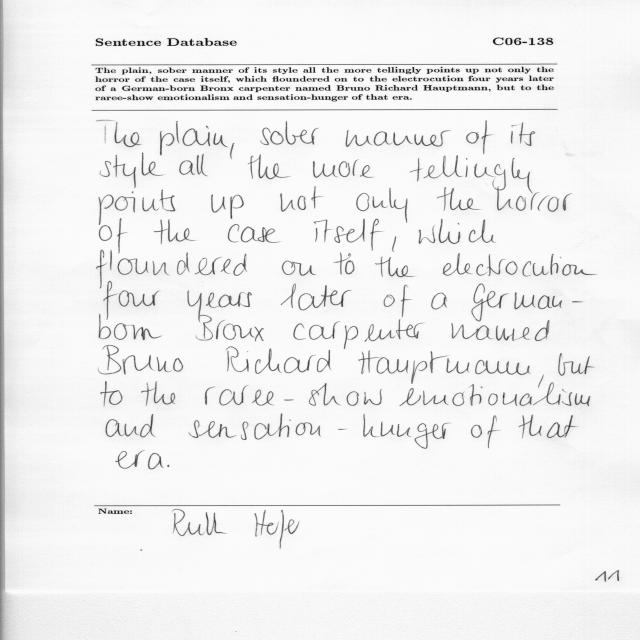word: (188, 414, 451, 449), (358, 350, 531, 384), (97, 250, 247, 288), (410, 155, 533, 194), (400, 383, 591, 407), (472, 284, 584, 322), (205, 383, 382, 406), (293, 319, 424, 349), (443, 253, 596, 277), (187, 291, 252, 341), (226, 346, 331, 374), (99, 190, 175, 225), (492, 180, 572, 212), (99, 346, 184, 375), (160, 121, 228, 155), (100, 153, 164, 188), (314, 219, 383, 251), (104, 281, 160, 320), (452, 320, 550, 341), (419, 219, 496, 244), (281, 284, 352, 311), (346, 130, 451, 147), (357, 188, 408, 223), (99, 314, 162, 340), (466, 120, 513, 154), (198, 320, 264, 342), (519, 415, 578, 439), (106, 414, 156, 438), (270, 121, 319, 145), (98, 120, 141, 147), (280, 186, 323, 212), (313, 160, 374, 178), (248, 155, 290, 180), (437, 187, 480, 211), (154, 220, 195, 245), (228, 224, 280, 243), (99, 219, 127, 254), (471, 416, 500, 449), (116, 451, 164, 470), (384, 285, 411, 317), (558, 353, 595, 376), (141, 381, 175, 406), (211, 194, 244, 219), (375, 257, 414, 277), (180, 154, 209, 176), (512, 122, 536, 146), (101, 381, 123, 407), (282, 261, 316, 276), (334, 253, 355, 275), (431, 293, 447, 310), (261, 128, 271, 145), (538, 375, 544, 388), (392, 236, 396, 252), (167, 465, 169, 467)
